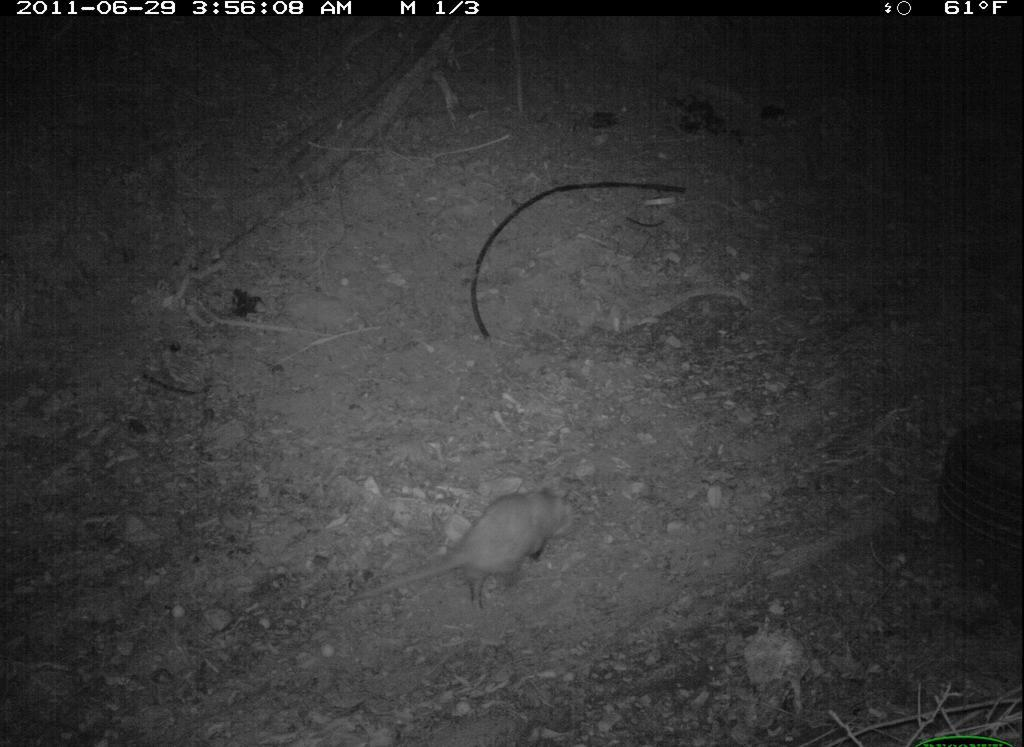opossum: (344, 488, 578, 624)
